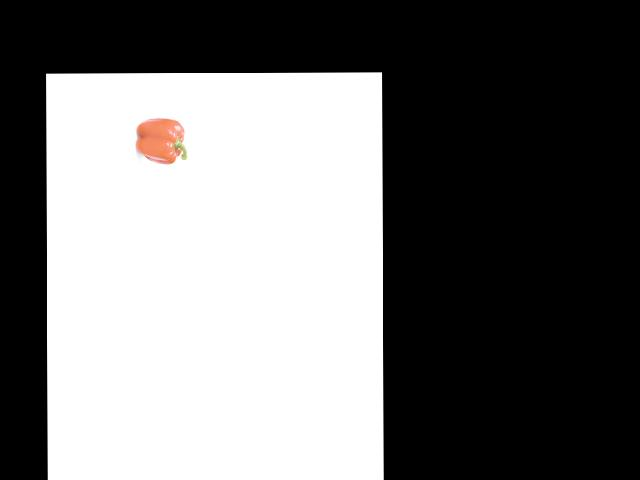bell_pepper: (134, 117, 188, 164)
